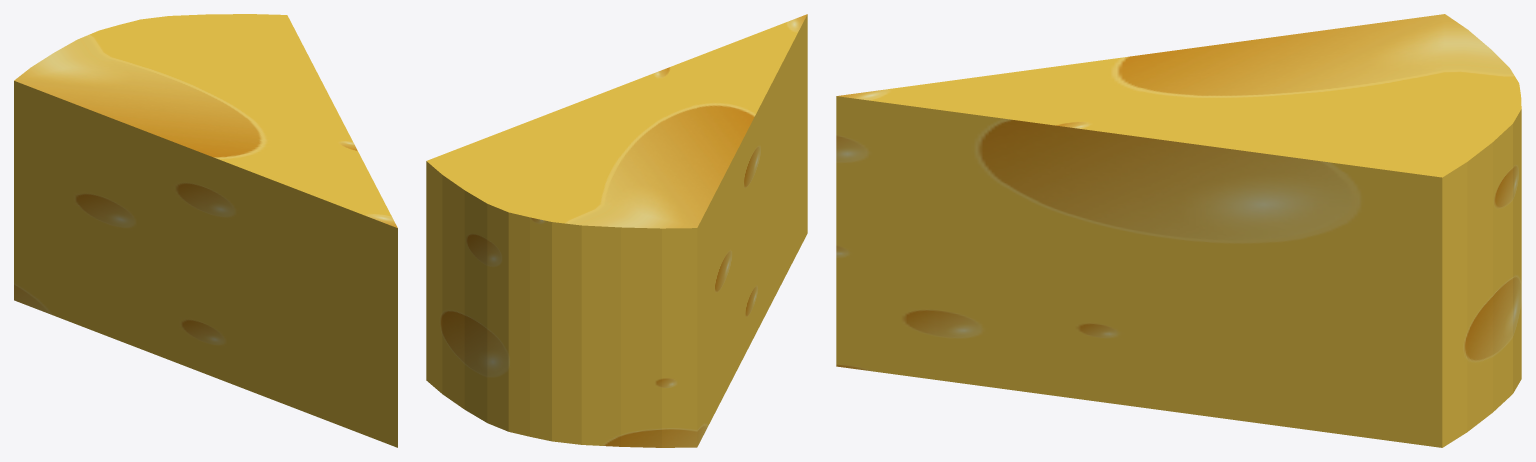
The model's file is cheese.fbx.
3 views of the same model, side by side, from view 1: azimuth 30°, elevation 25°; view 2: azimuth 150°, elevation 25°; view 3: azimuth 270°, elevation 25° (orthographic). The views are drawn at different scales.
Visible parts, largest first — view 1: Cube; view 2: Cube; view 3: Cube.
Part boxes in pixels (bbox=[...]): Cube: bbox=[14, 14, 397, 447]; Cube: bbox=[426, 14, 807, 447]; Cube: bbox=[836, 14, 1521, 447].
Bounding box in the file's own units: 259 × 200 × 459.
